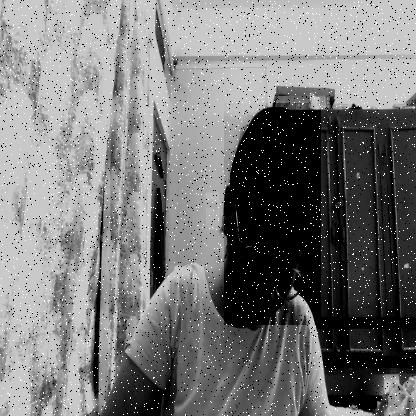Distracted: (224, 103, 321, 325)
